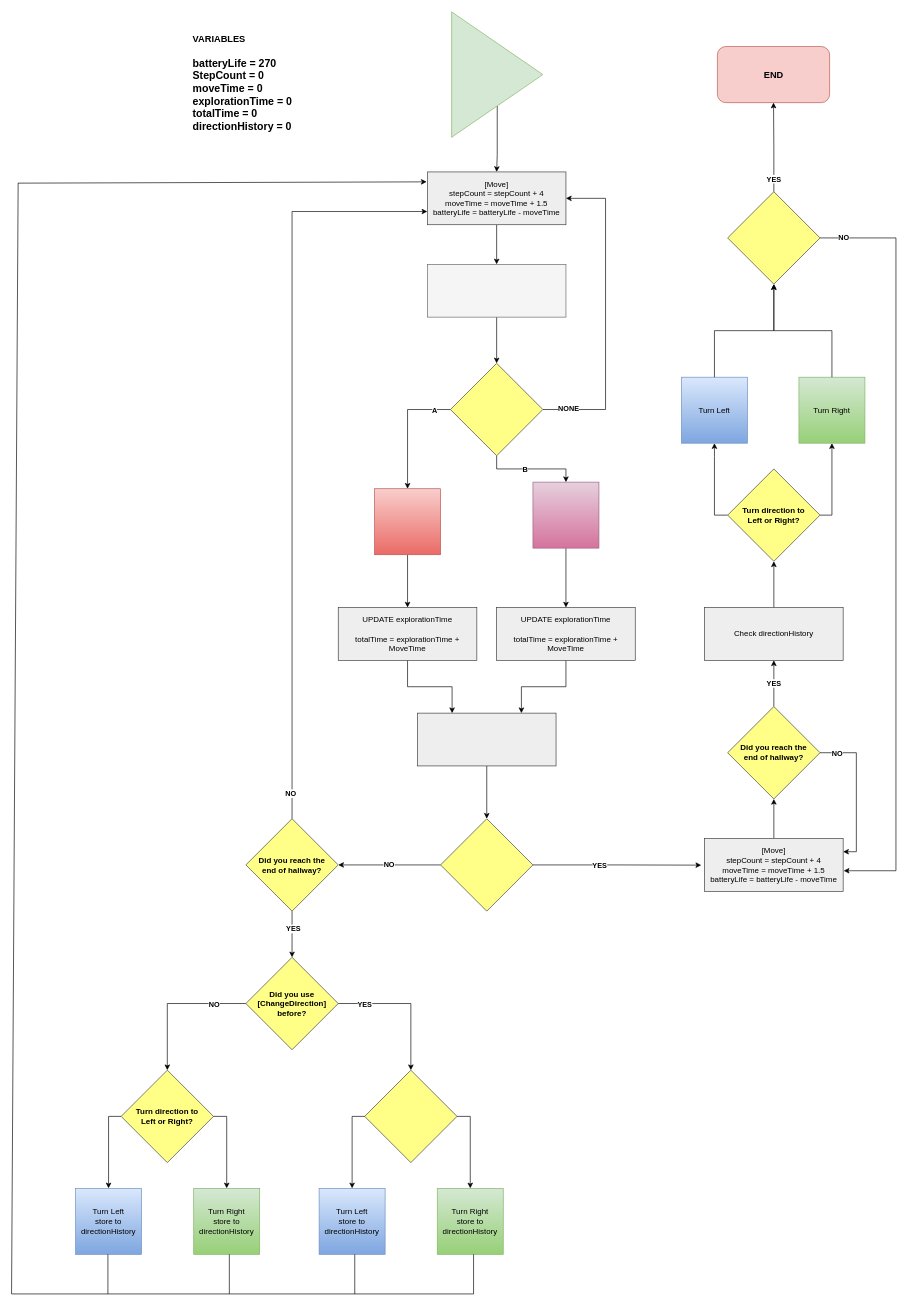
Some shapes in this 913 by 1306 pixel diagram are drawn without their labels. The box of each missing label's shape, as (x1, y1, x2, y2) in pixels:
[CheckRoom]: (427, 264, 566, 317)
call ExploreRoom - A: (374, 488, 441, 555)
call ExploreRoom - B: (532, 481, 599, 548)
Check batteryLife remaining = batteryLife - totalTime: (417, 712, 556, 766)
Did you reach the START pont?: (727, 191, 820, 284)
Do you want to [TurnAround] ?: (440, 818, 533, 911)
Room A, Room B or none?: (450, 363, 543, 456)
START: (451, 11, 543, 137)
Was previous direction Left or Right?: (364, 1070, 457, 1163)
